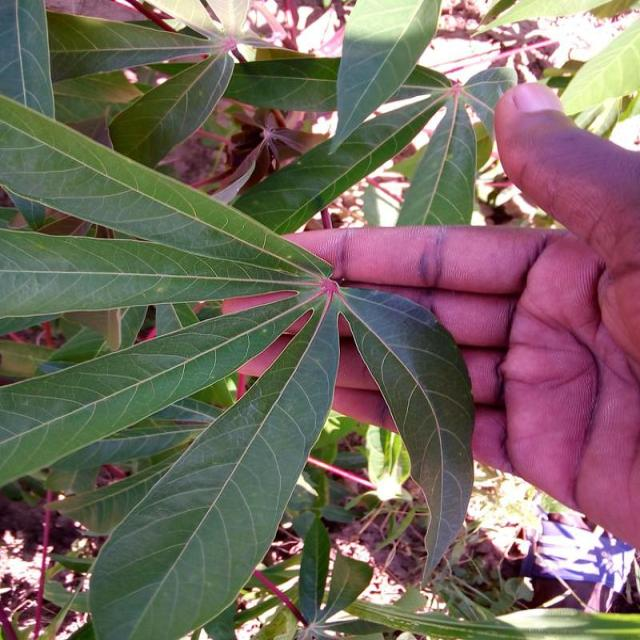cassava leaf: (2, 2, 479, 637), (88, 288, 342, 638)
